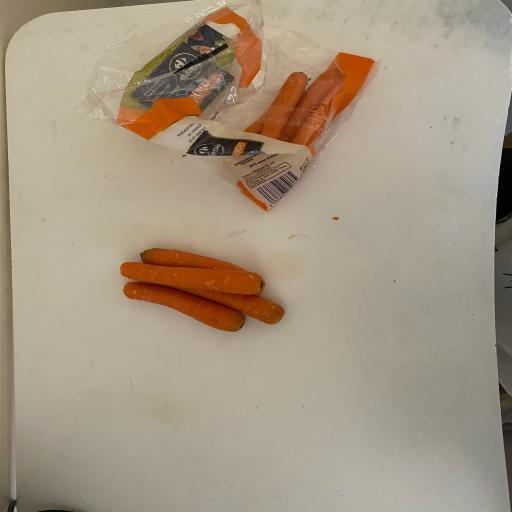carrot: (105, 1, 396, 230), (106, 245, 294, 342), (75, 263, 266, 344), (111, 233, 297, 301), (101, 251, 284, 306)
